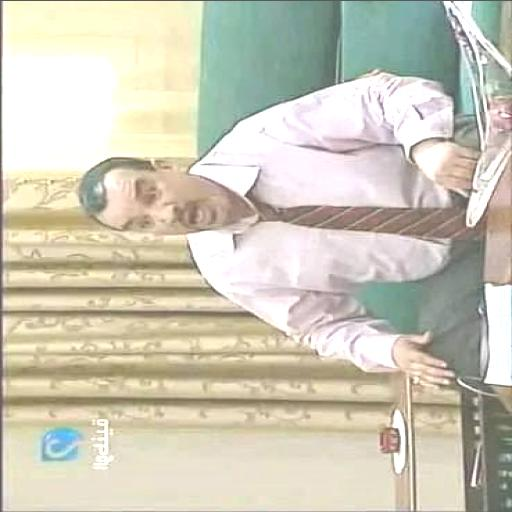slimane: (78, 157, 232, 234)
